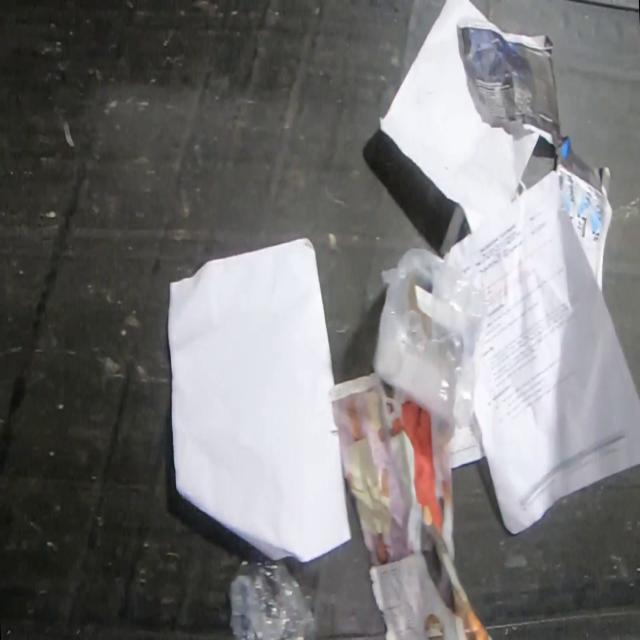rigid_plastic: (228, 559, 318, 640)
soft_plastic: (370, 243, 490, 432)
